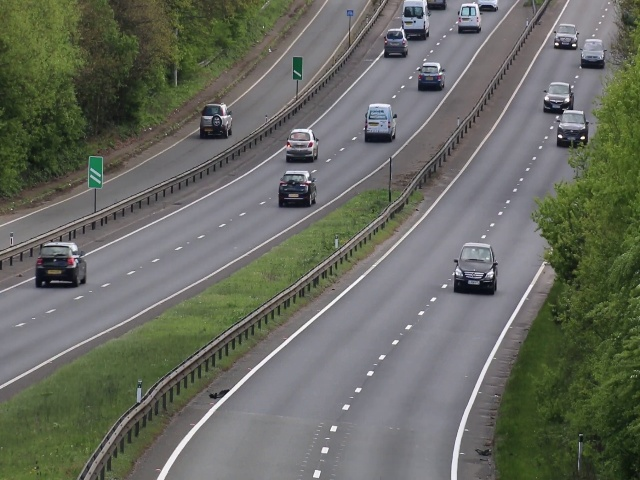car: (34, 241, 87, 290), (454, 243, 497, 294), (278, 170, 317, 208), (197, 101, 235, 138), (363, 101, 397, 141), (285, 128, 321, 164), (556, 107, 587, 148), (400, 1, 432, 39), (544, 80, 573, 112), (456, 2, 484, 34), (418, 62, 445, 90), (383, 27, 408, 57), (553, 22, 578, 50), (580, 40, 605, 68)
